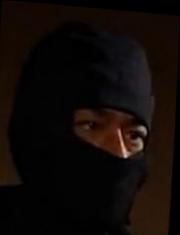WRONG: (51, 94, 156, 222)
